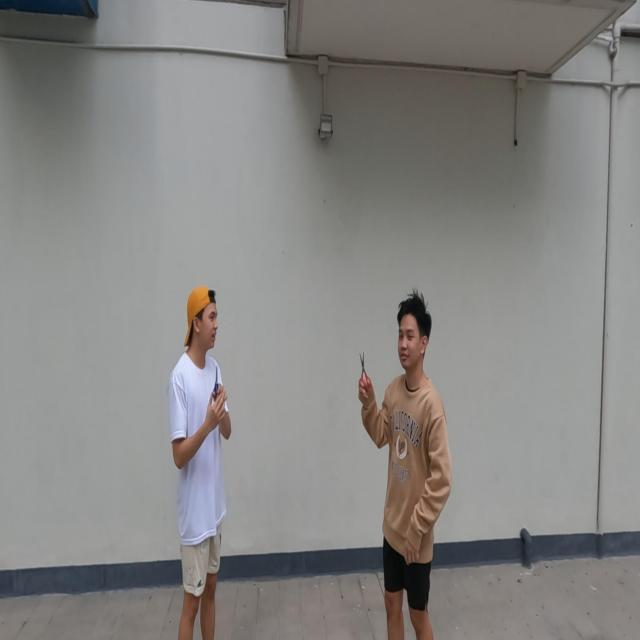scissor: (358, 351, 372, 388), (212, 365, 219, 400)
